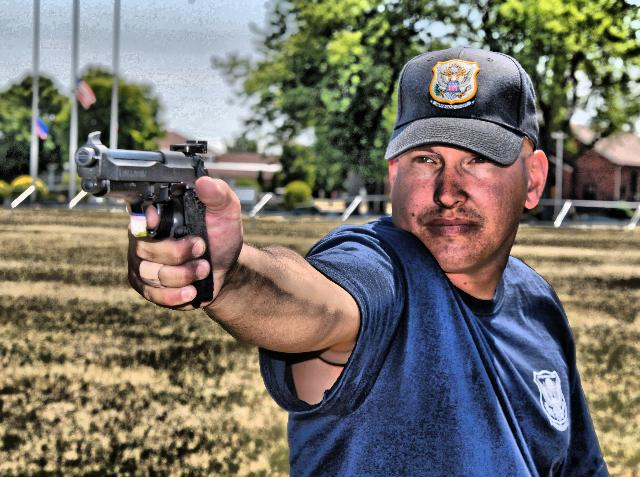pistol: (72, 133, 216, 307)
